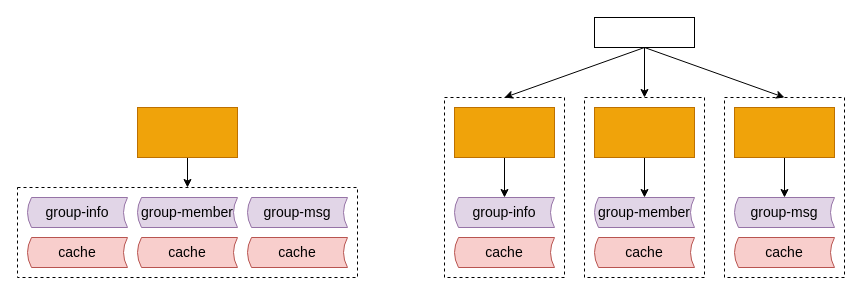
Image size: 862x295. Some labels were removed from this diagram. Here are the shapes that lost their labels. From the top down, the box of each, then its label:
(594, 16, 694, 48): dispatcher
(136, 106, 238, 158): group- service
(454, 106, 554, 158): group-info service
(594, 106, 694, 158): group-mem service
(734, 106, 834, 158): group-msg service
